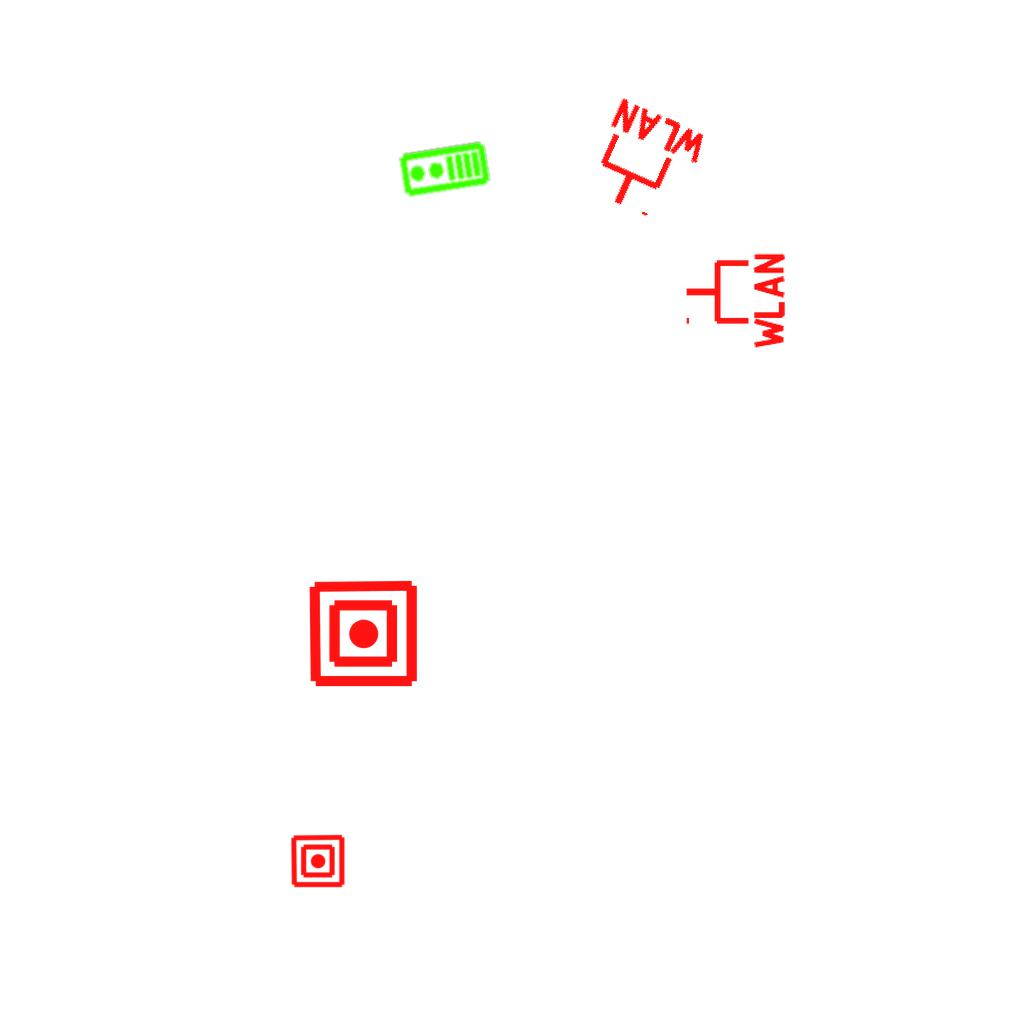Gegensprechanlage_mit_Video: (397, 139, 492, 201)
NAM-Nichtautomatischer_Melder: (307, 577, 420, 690), (290, 833, 346, 889)
WLAN: (576, 93, 715, 233), (682, 249, 787, 353)
